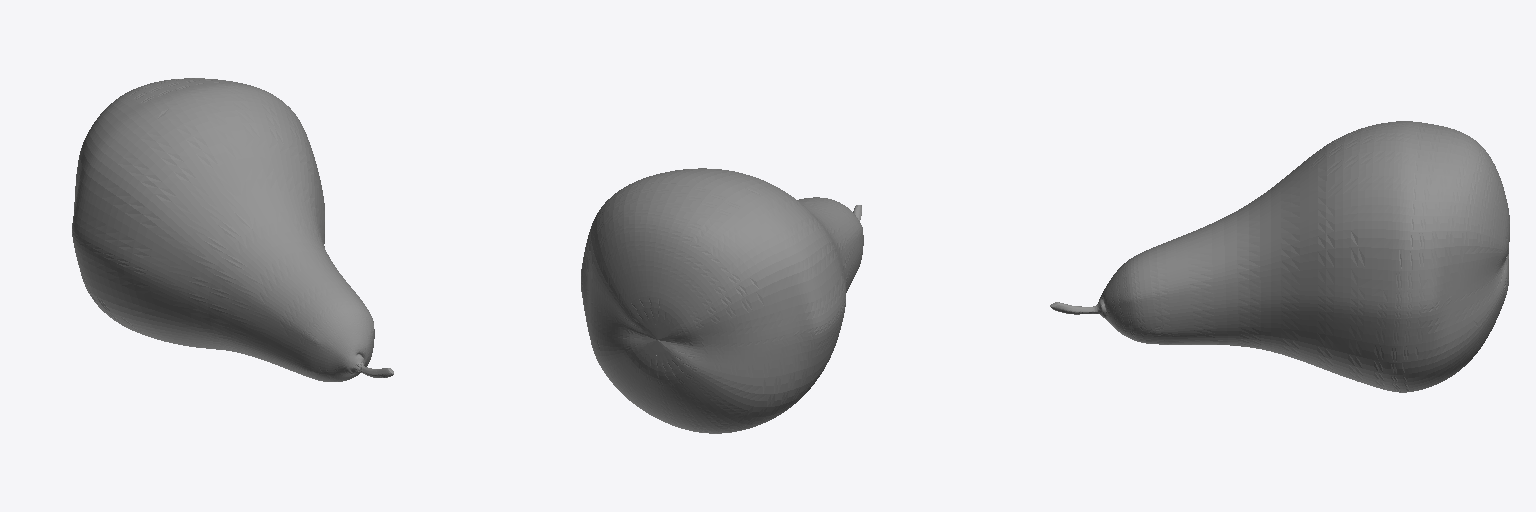
The model's file is pear.obj.
3 views of the same model, side by side, from view 1: azimuth 30°, elevation 25°; view 2: azimuth 150°, elevation 25°; view 3: azimuth 270°, elevation 25° (orthographic).
Visible parts, largest first — view 1: Pear; view 2: Pear; view 3: Pear.
Boxes of the visible parts, box(x1,y1,x2,y2) form: Pear: box(72, 78, 393, 381); Pear: box(581, 168, 863, 433); Pear: box(1050, 121, 1509, 392).
Size of the model in its own units: 8.16 by 7.93 by 13.72.